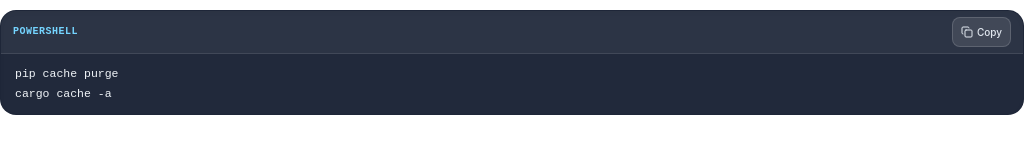
it: MarkdownRenderer › renders fenced code block language label and copies exact snippet via Copy button
expect the text "powershell" is shown: met, box [13, 26, 78, 37]
What coordinates should you click on to do the following:
click the button with aria-label "Copy code"
I would click on:
 (981, 32)
Its box is [952, 17, 1011, 47].
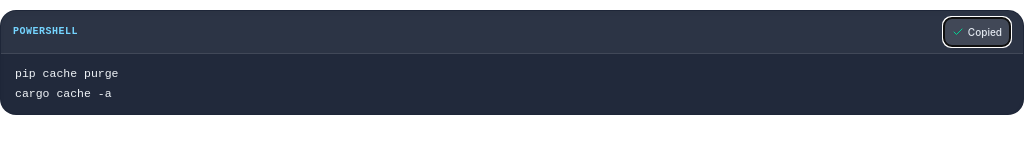
expect the text "Copied" is shown: met, box [968, 26, 1002, 38]
